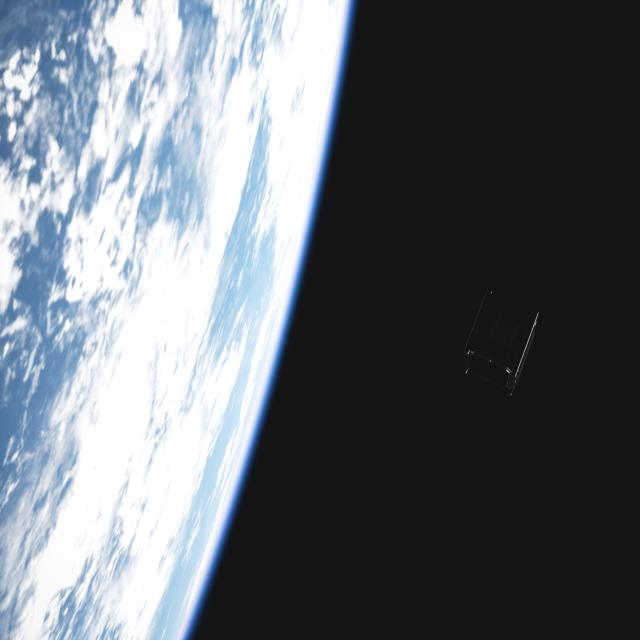medium_debris: (464, 289, 545, 397)
